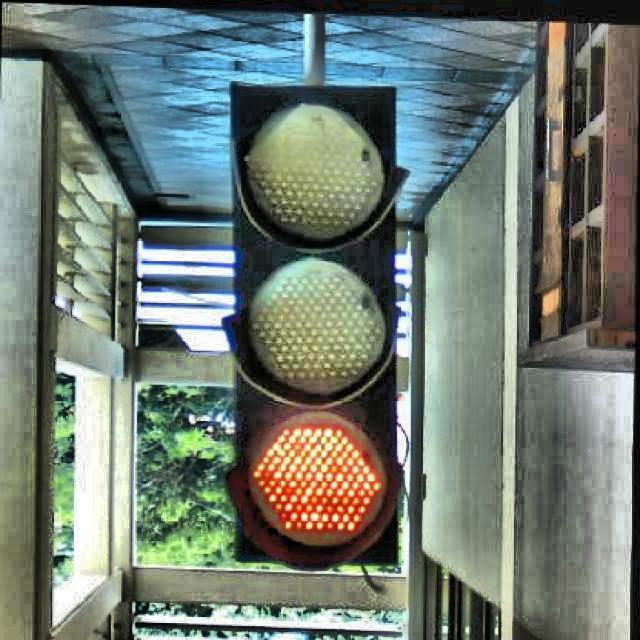red: (226, 85, 396, 563)
